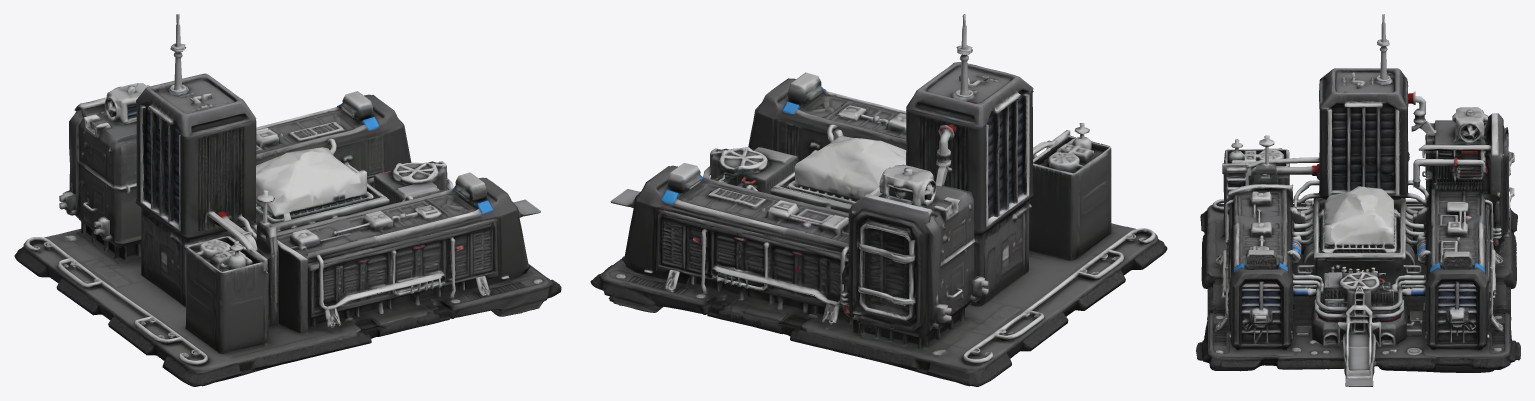
File: broke-hq-web-v1.glb
3 renders of one model, left to right at view 1: azimuth 30°, elevation 25°; view 2: azimuth 150°, elevation 25°; view 3: azimuth 270°, elevation 25°, orthographic. The views are drawn at different scales.
Visible parts, largest first — view 1: tripo_node_952cca0a-e7ad-4cc1-915c-790d76726ff4; view 2: tripo_node_952cca0a-e7ad-4cc1-915c-790d76726ff4; view 3: tripo_node_952cca0a-e7ad-4cc1-915c-790d76726ff4.
Boxes of the visible parts, left/top/right/bottom form: tripo_node_952cca0a-e7ad-4cc1-915c-790d76726ff4: left=14, top=14, right=561, bottom=386; tripo_node_952cca0a-e7ad-4cc1-915c-790d76726ff4: left=590, top=14, right=1167, bottom=386; tripo_node_952cca0a-e7ad-4cc1-915c-790d76726ff4: left=1196, top=14, right=1520, bottom=386.
Bounding box in the file's own units: 0.9817 × 0.6076 × 0.7364.
1 material, 1 textured.
